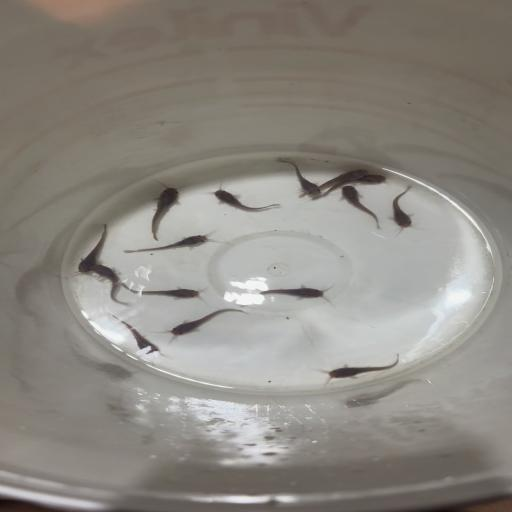lele: (160, 307, 250, 339), (104, 311, 162, 357), (318, 352, 402, 382), (120, 230, 224, 254), (147, 180, 185, 240), (296, 168, 369, 198), (309, 174, 390, 201), (207, 184, 281, 212), (72, 223, 112, 273), (339, 184, 382, 229), (274, 158, 323, 197), (88, 262, 131, 306), (122, 280, 207, 302), (246, 283, 336, 301), (388, 185, 420, 233)
